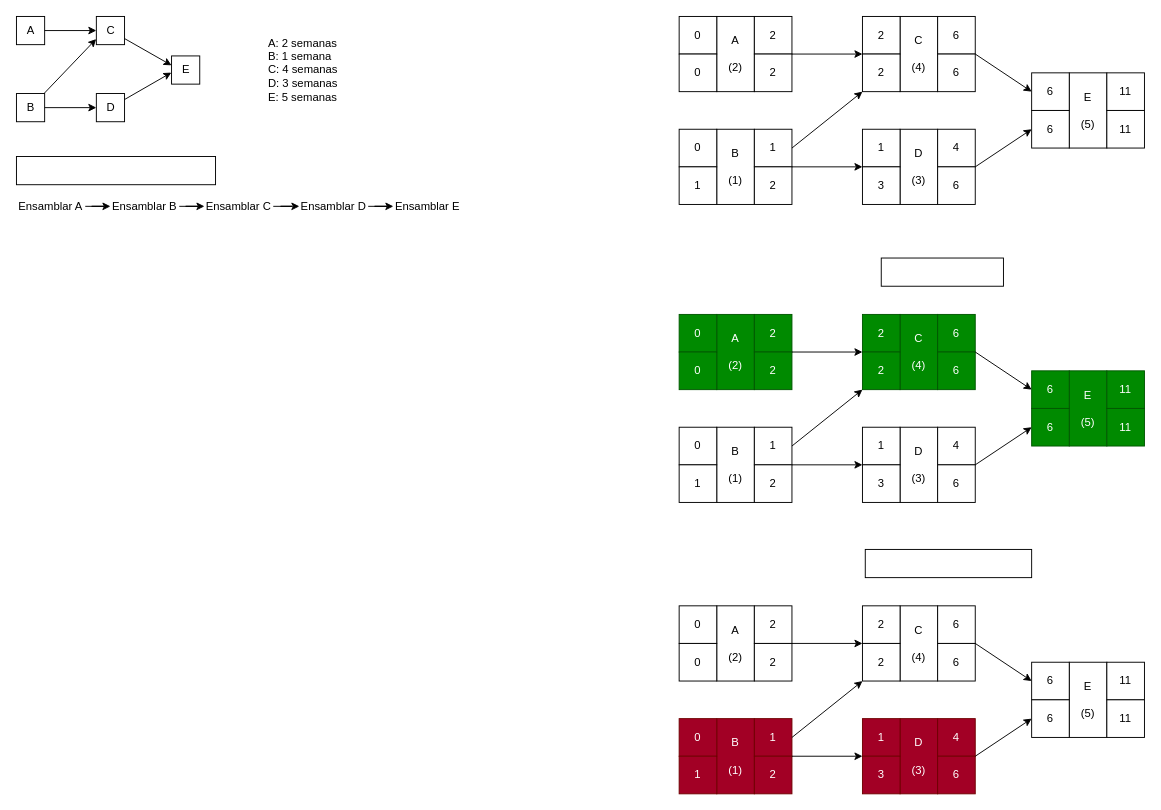
Image size: 1161x810. Some labels were removed from this diagram. The box of each missing label's shape, as (x1, y1, x2, y2) in pixels:
CAMINO CRÍTICO: (880, 257, 1003, 286)
PLAN DE ORDEN PARCIAL: (16, 156, 216, 185)
TIEMPOS DE RELAJACIÓN: (864, 548, 1032, 578)
